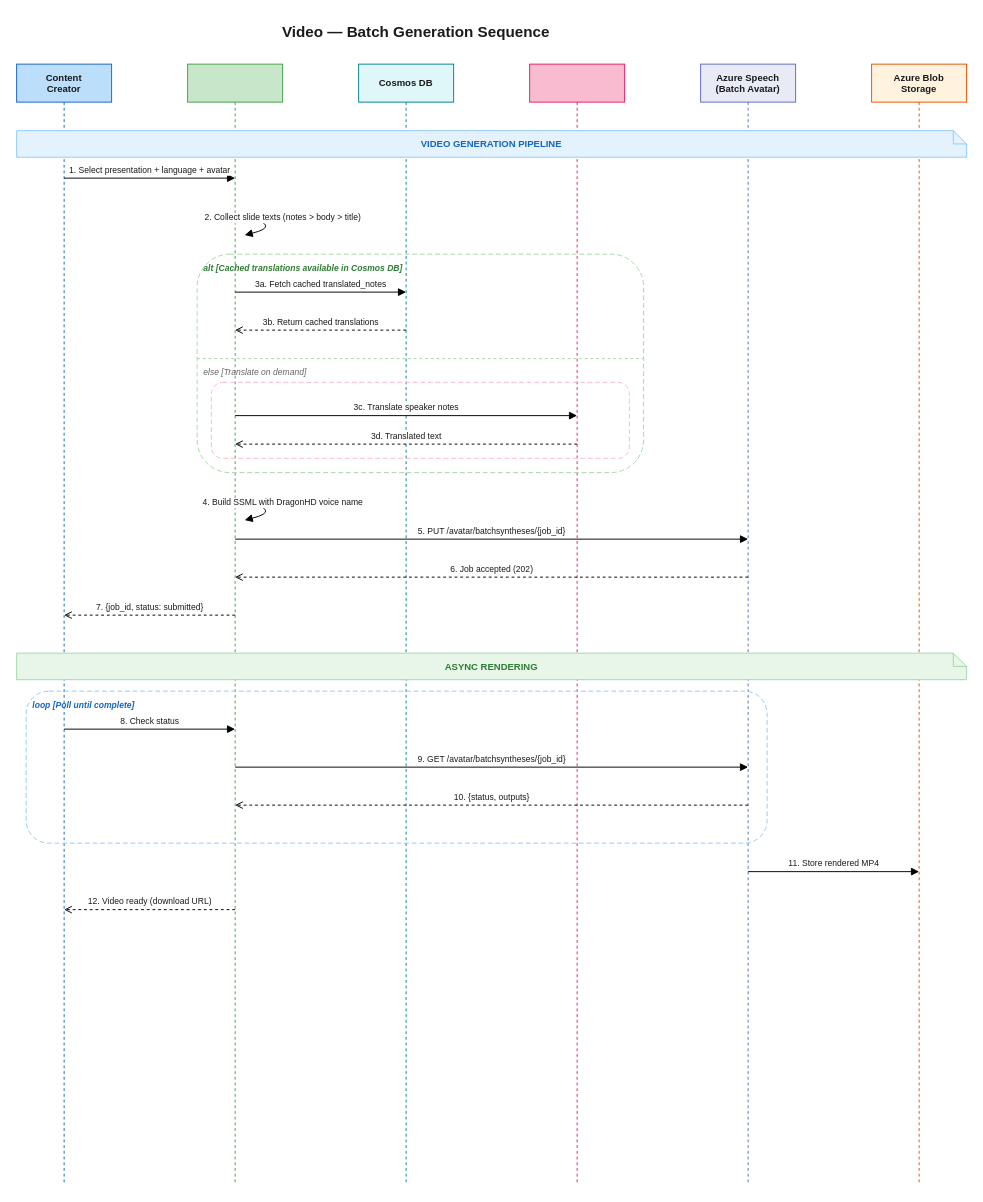
Some shapes in this 983 by 1202 pixel diagram are drawn without their labels. The centre of each missing label's shape, as x and y in pixels:
Azure OpenAI (GPT-4.1): the point at 577,624
loop [For each slide if language != source]: the point at 419,419
Web App (FastAPI): the point at 235,624
